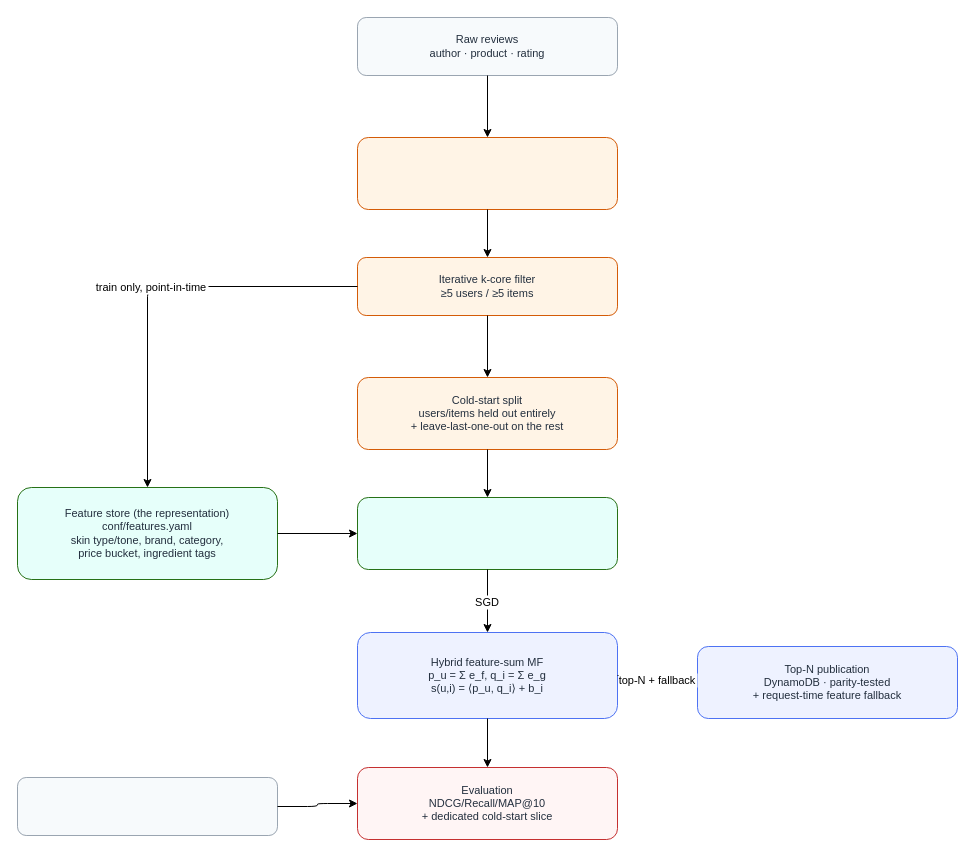
The diagram is 975 pixels wide and 857 high, and some of its shapes have lost their labels. Each missing label, with the box of its shape:
Baselines Popularity · ID-only MF (BPR) · Random: (16, 776, 278, 836)
Implicit feedback rating ≥ 4 or is_recommended → positive low ratings dropped: (356, 136, 618, 210)
WARP triplet sampler sample j until s(u,j) > s(u,i) − 1 weight = L(rank(i)): (356, 496, 618, 570)
